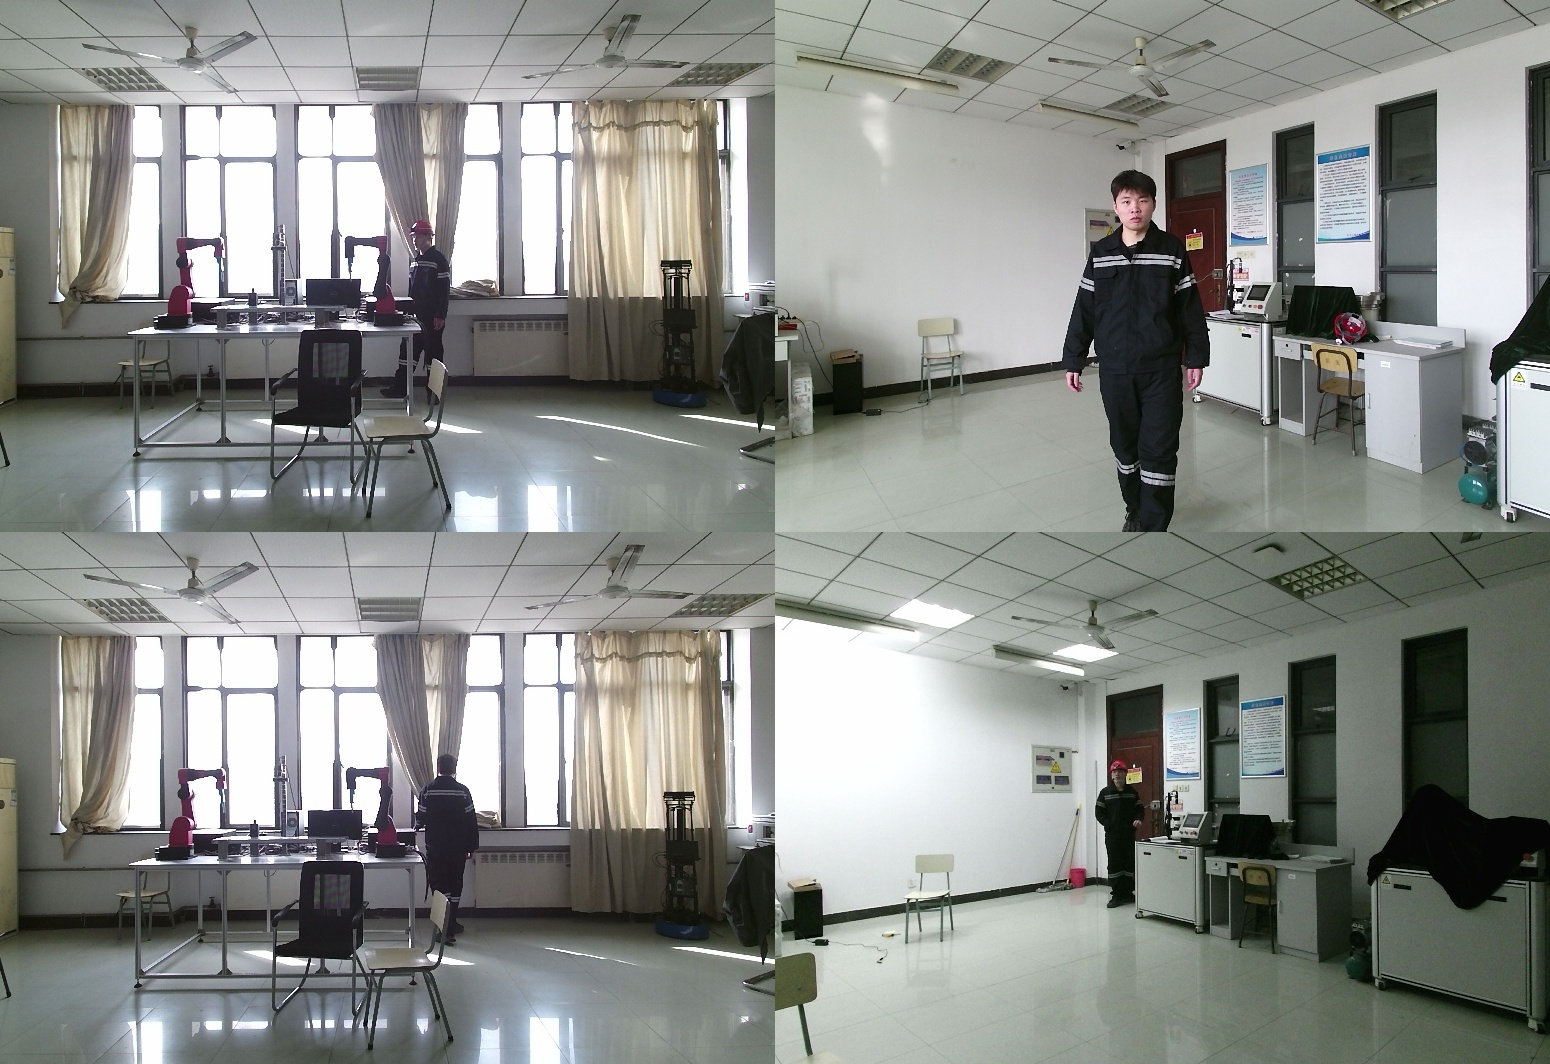person: (1067, 172, 1216, 532), (381, 222, 453, 407), (414, 752, 483, 911), (1095, 762, 1152, 908)
